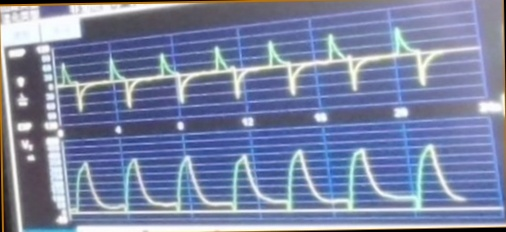Flow: (59, 29, 457, 111)
Leakage Volume: (70, 140, 468, 221)
